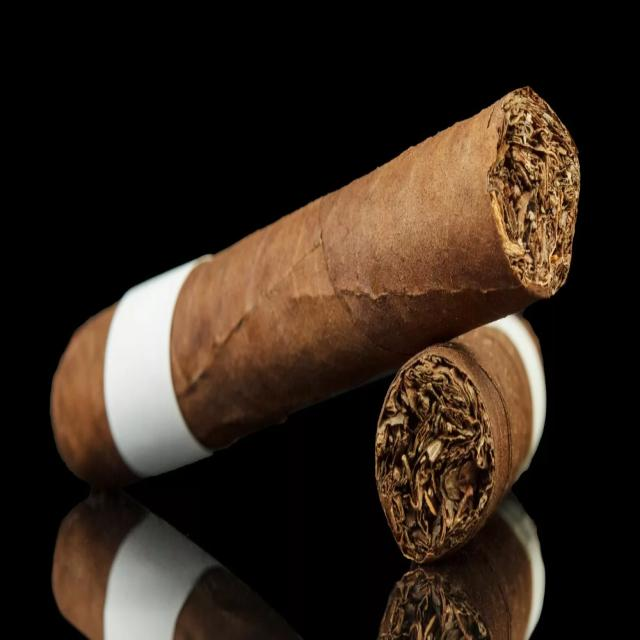Cigarette: (50, 84, 581, 496), (378, 313, 548, 563)
